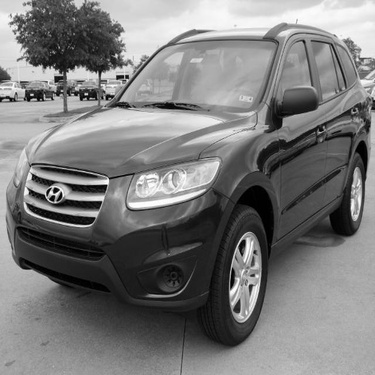car: (9, 14, 368, 318)
